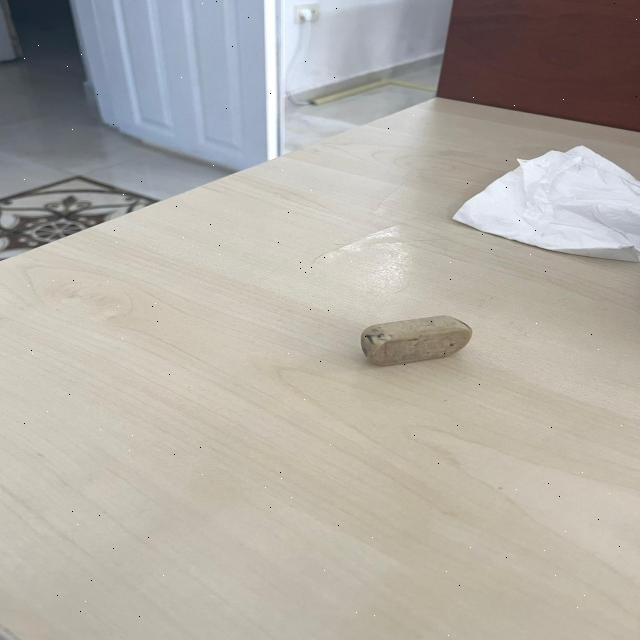eraser: (335, 302, 486, 372)
